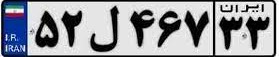character: (86, 5, 125, 53), (183, 4, 211, 55), (128, 4, 156, 51), (59, 5, 86, 51), (157, 4, 182, 53), (32, 8, 60, 50), (245, 14, 272, 51), (218, 14, 244, 52)
